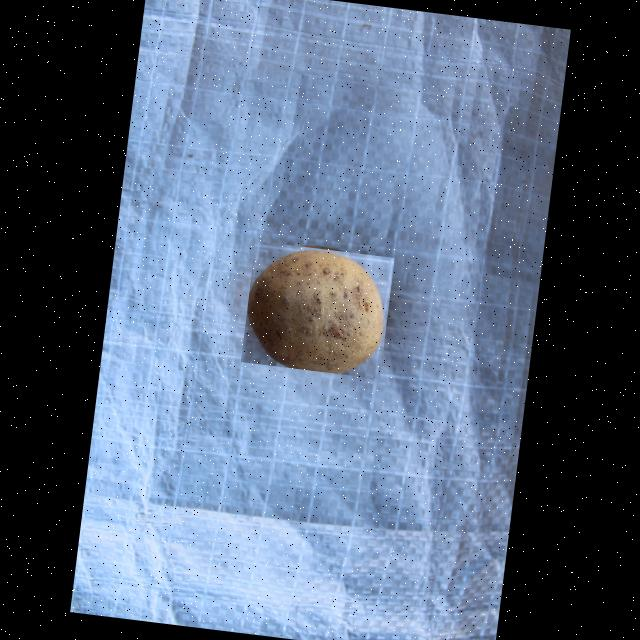Diseased-fungal potato: (240, 240, 394, 378)
